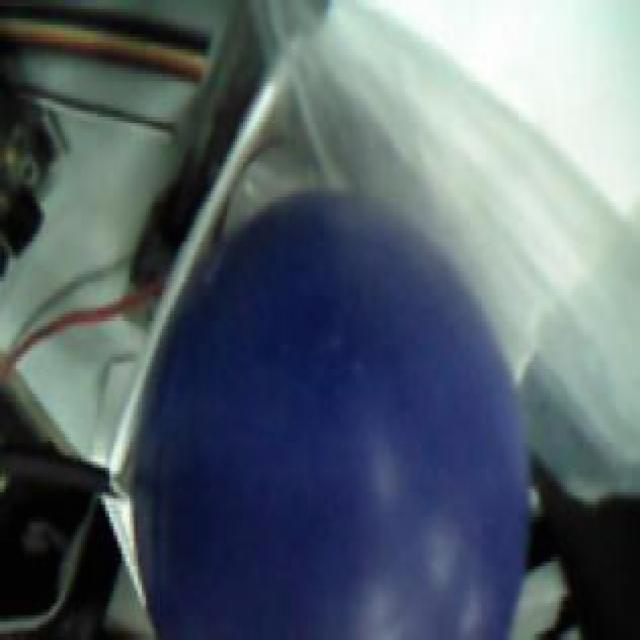BallPurple: (134, 193, 529, 640)
